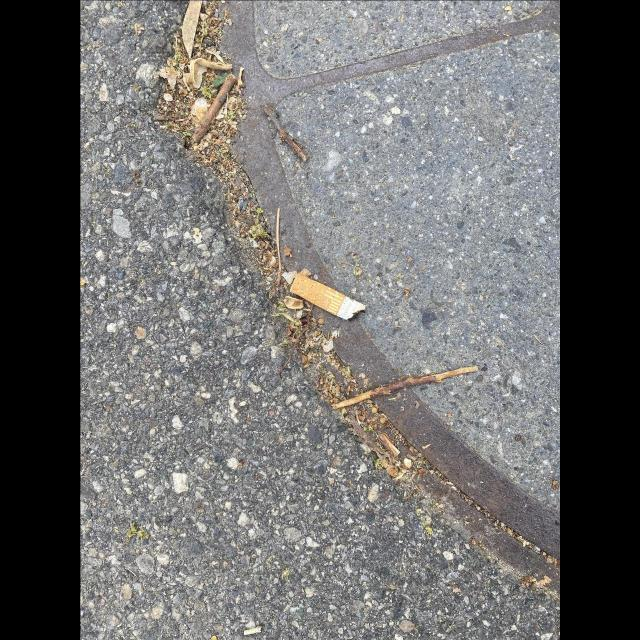cigarette: (290, 274, 366, 322)
